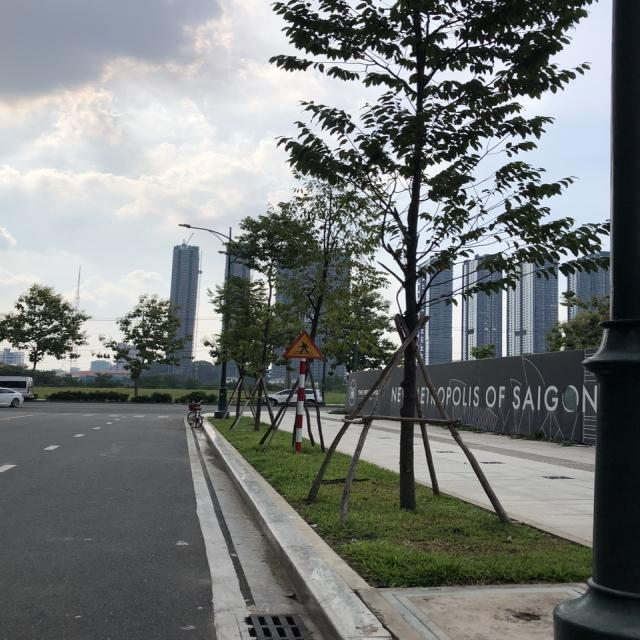Bien bao duong nguoi di bo cat ngang: (280, 328, 326, 361)
